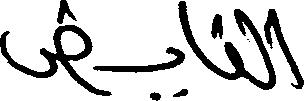X: (0, 0, 90, 96), (245, 4, 274, 94), (276, 8, 303, 93), (167, 0, 183, 100), (185, 0, 201, 100), (225, 4, 243, 84)
